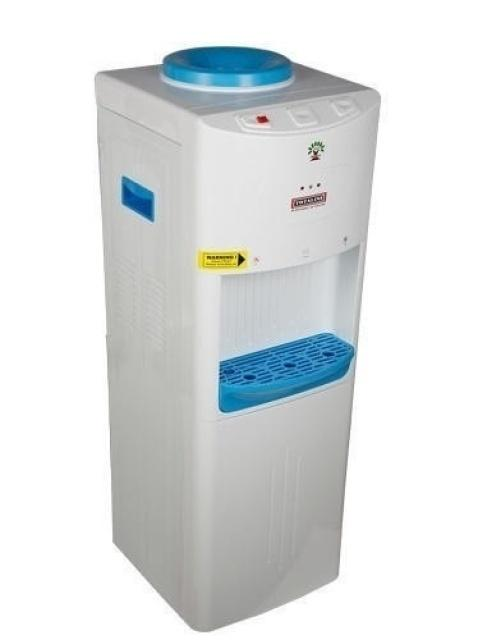Dispenser: (94, 44, 381, 631)
